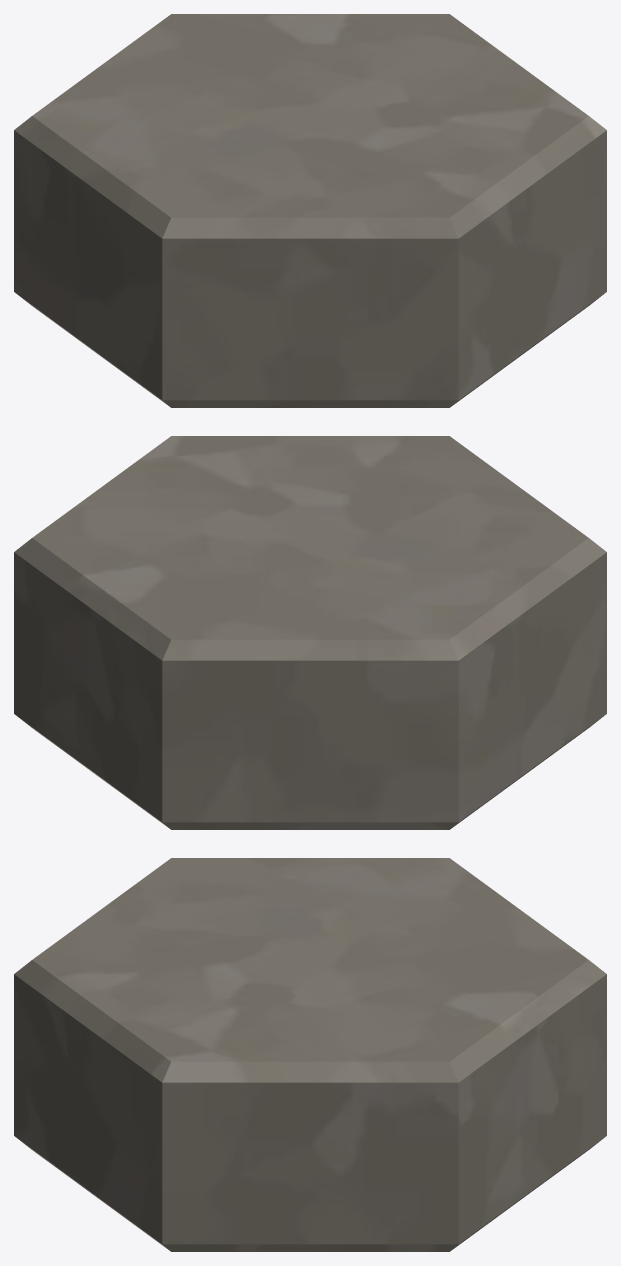
The model's file is Part - Simlpe form 14-Bkyx97Hy.glb.
The picture shows the model from 3 angles, top to bottom: view 1: azimuth 30°, elevation 25°; view 2: azimuth 150°, elevation 25°; view 3: azimuth 270°, elevation 25°; orthographic projection.
Visible parts, largest first — view 1: Simlpe_form_14; view 2: Simlpe_form_14; view 3: Simlpe_form_14.
Boxes of the visible parts, box(x1,y1,x2,y2) form: Simlpe_form_14: box(14, 14, 606, 407); Simlpe_form_14: box(14, 436, 606, 829); Simlpe_form_14: box(14, 858, 606, 1251).
Bounding box in the file's own units: 1.2 × 0.4919 × 1.39.
Materials: 1 (1 with a texture image).
